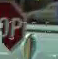Stop: (0, 0, 29, 57)
